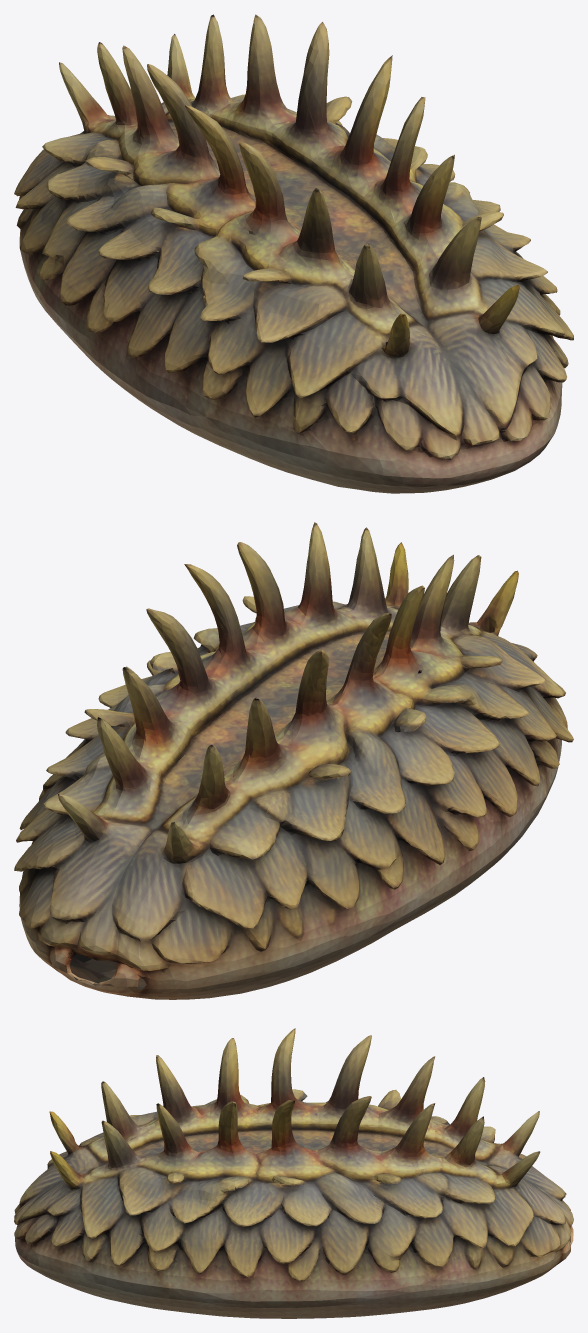
3 renders of one model, top to bottom at view 1: azimuth 30°, elevation 25°; view 2: azimuth 150°, elevation 25°; view 3: azimuth 270°, elevation 25°, orthographic. The views are drawn at different scales.
Visible parts, largest first — view 1: world; view 2: world; view 3: world.
Part boxes in pixels (x1=…): world: x1=14, y1=14, x2=573, y2=493; world: x1=14, y1=522, x2=573, y2=999; world: x1=14, y1=1028, x2=573, y2=1318.
Bounding box in the file's own units: 0.5676 × 0.4512 × 0.9979.
Materials: 1 (1 with a texture image).
